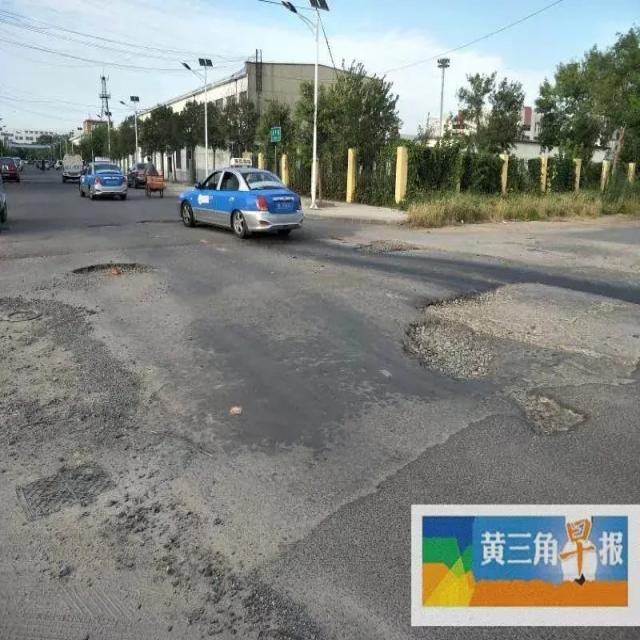Pothole: (401, 280, 639, 385), (506, 388, 592, 436), (354, 237, 421, 256), (4, 299, 49, 326), (69, 264, 150, 278), (134, 217, 178, 225)
